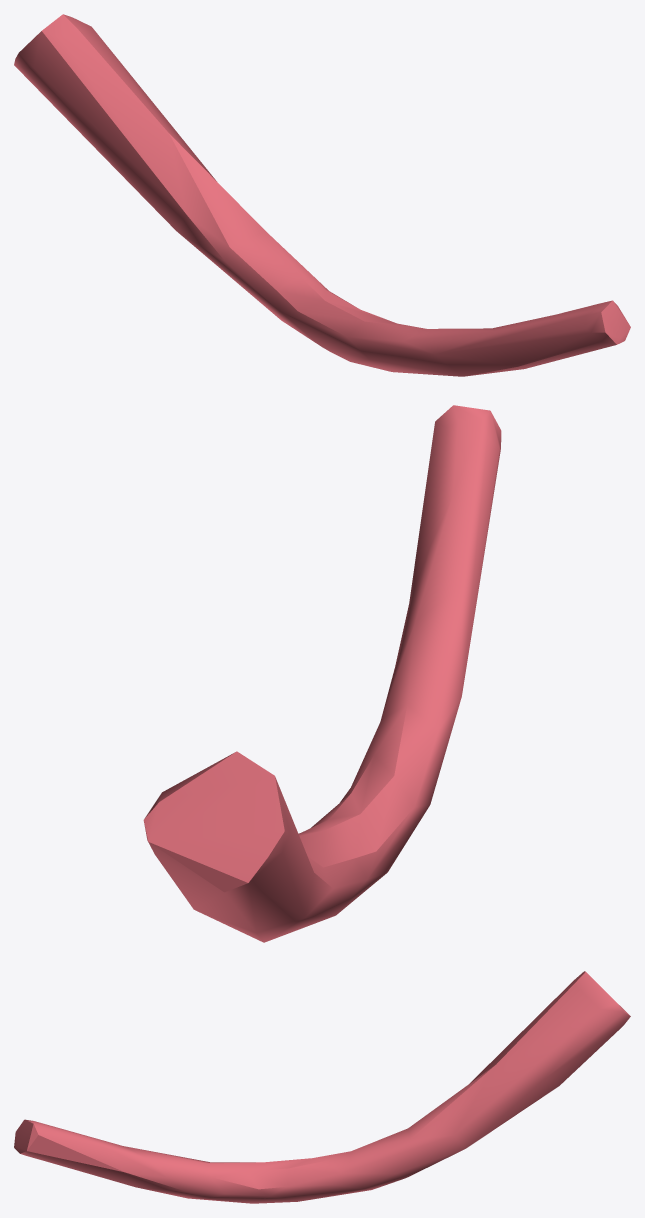
The model's file is fma68193_fj6058.glb.
3 views of the same model, one above another, from view 1: azimuth 30°, elevation 25°; view 2: azimuth 150°, elevation 25°; view 3: azimuth 270°, elevation 25° (orthographic). The views are drawn at different scales.
Visible parts, largest first — view 1: FMA68193_FJ6058; view 2: FMA68193_FJ6058; view 3: FMA68193_FJ6058.
Part boxes in pixels (x1,y1,x2,y2): FMA68193_FJ6058: [14, 14, 630, 376]; FMA68193_FJ6058: [143, 405, 501, 942]; FMA68193_FJ6058: [14, 971, 630, 1203].
Bounding box in the file's own units: 0.0164 × 0.0141 × 0.0418.
